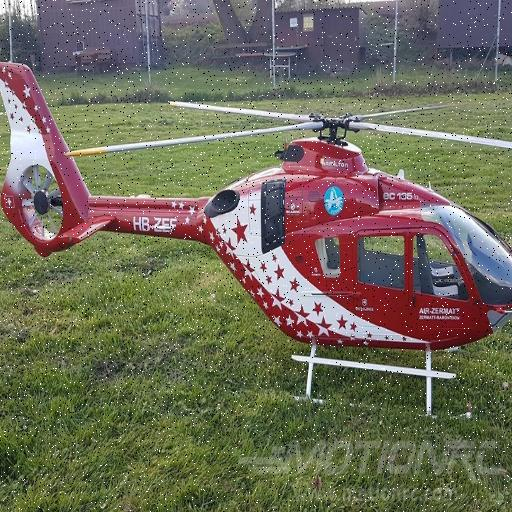helicopter: (1, 61, 512, 422)
